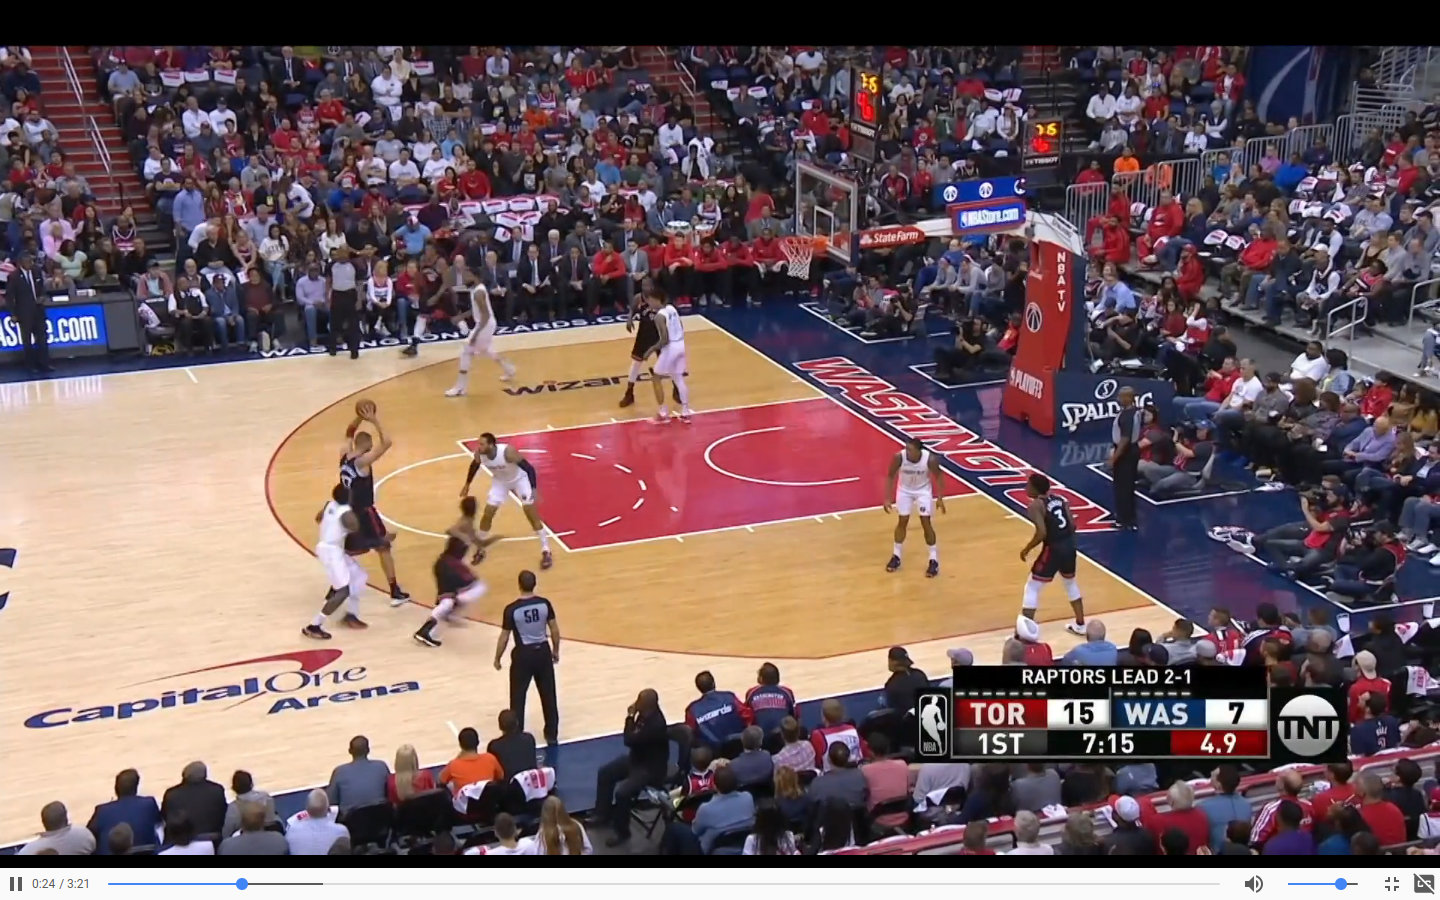basketball: (352, 392, 382, 420)
basketball player: (1013, 465, 1092, 642), (339, 422, 404, 609), (418, 496, 493, 651), (470, 425, 547, 568), (879, 437, 947, 582), (304, 483, 361, 637), (453, 266, 516, 397), (402, 242, 476, 352), (621, 274, 670, 412), (650, 297, 692, 425)
referee: (499, 568, 561, 746), (1105, 382, 1148, 537), (327, 243, 367, 359)
